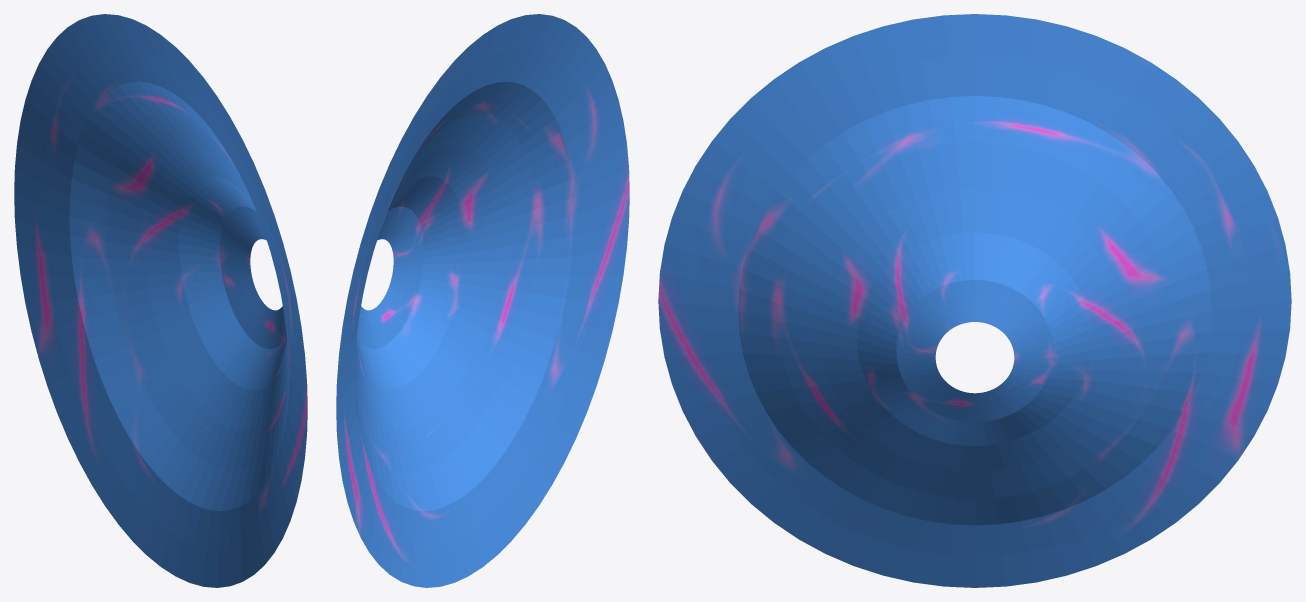
The model's file is Aura.fbx.
3 views of the same model, side by side, from view 1: azimuth 30°, elevation 25°; view 2: azimuth 150°, elevation 25°; view 3: azimuth 270°, elevation 25° (orthographic). The views are drawn at different scales.
Visible parts, largest first — view 1: SM_e_Plc_P1012_Ring002.001; view 2: SM_e_Plc_P1012_Ring002.001; view 3: SM_e_Plc_P1012_Ring002.001.
Boxes of the visible parts, left/top/right/bottom form: SM_e_Plc_P1012_Ring002.001: left=14, top=14, right=307, bottom=587; SM_e_Plc_P1012_Ring002.001: left=336, top=14, right=629, bottom=587; SM_e_Plc_P1012_Ring002.001: left=658, top=14, right=1291, bottom=587.
Bounding box in the file's own units: 20.62 × 97.46 × 97.46.
1 material, 1 textured.
